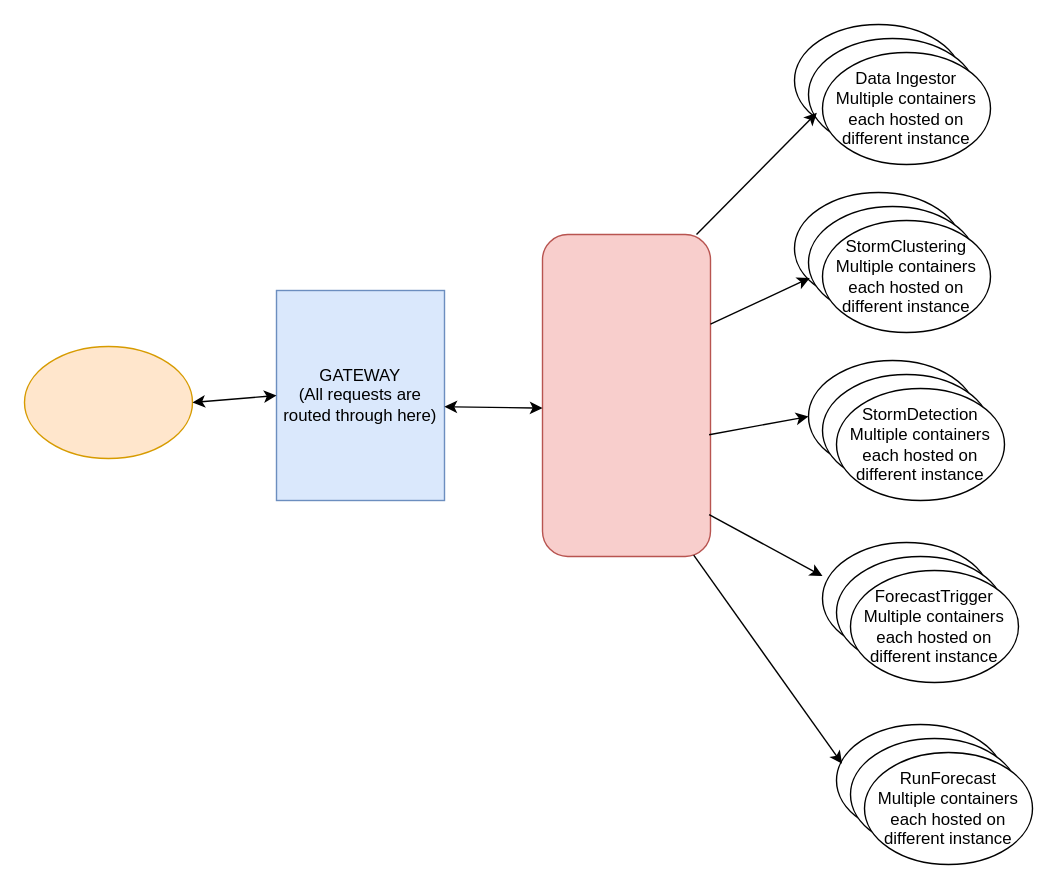
Image size: 1057x889. Some labels were removed from this diagram. The box of each missing label's shape, as (x1, y1, x2, y2) in pixels:
LOAD BALANCER -Zookeeper server: (541, 233, 710, 556)
USER: (23, 345, 192, 458)
